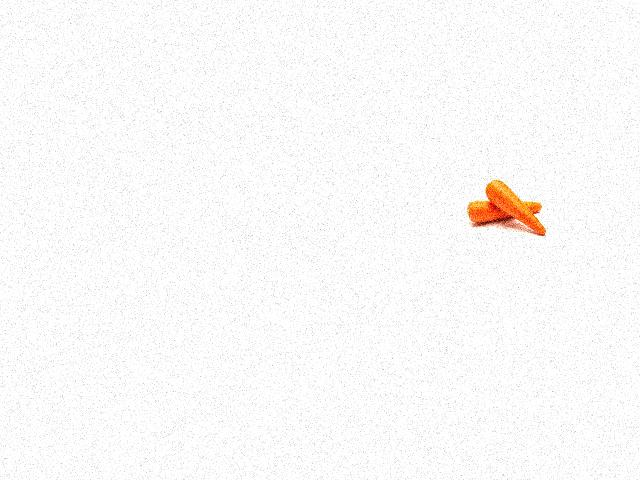carrot: (462, 197, 550, 226)
